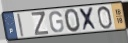G: (49, 10, 66, 34)
I: (16, 13, 25, 38)
O: (64, 8, 82, 34), (96, 5, 113, 30)
X: (78, 6, 99, 32)
Z: (30, 11, 50, 36)
